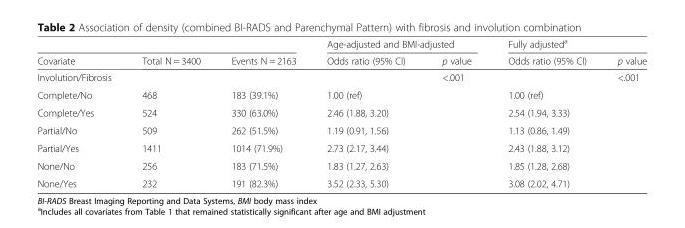table: (36, 36, 646, 188)
table column: (310, 36, 423, 188), (489, 36, 601, 188), (215, 36, 310, 188), (36, 36, 126, 188), (126, 36, 215, 188), (423, 36, 489, 188), (601, 36, 646, 188)
table column header: (36, 36, 646, 68)
table row: (36, 85, 646, 103), (36, 103, 646, 121), (36, 138, 646, 156), (36, 156, 646, 174), (36, 68, 646, 85), (36, 121, 646, 138), (36, 36, 646, 52), (36, 52, 646, 68), (36, 174, 646, 188)
table spanning cell: (215, 36, 310, 68), (36, 36, 126, 68), (310, 36, 489, 52), (126, 36, 215, 68), (489, 36, 646, 52)
